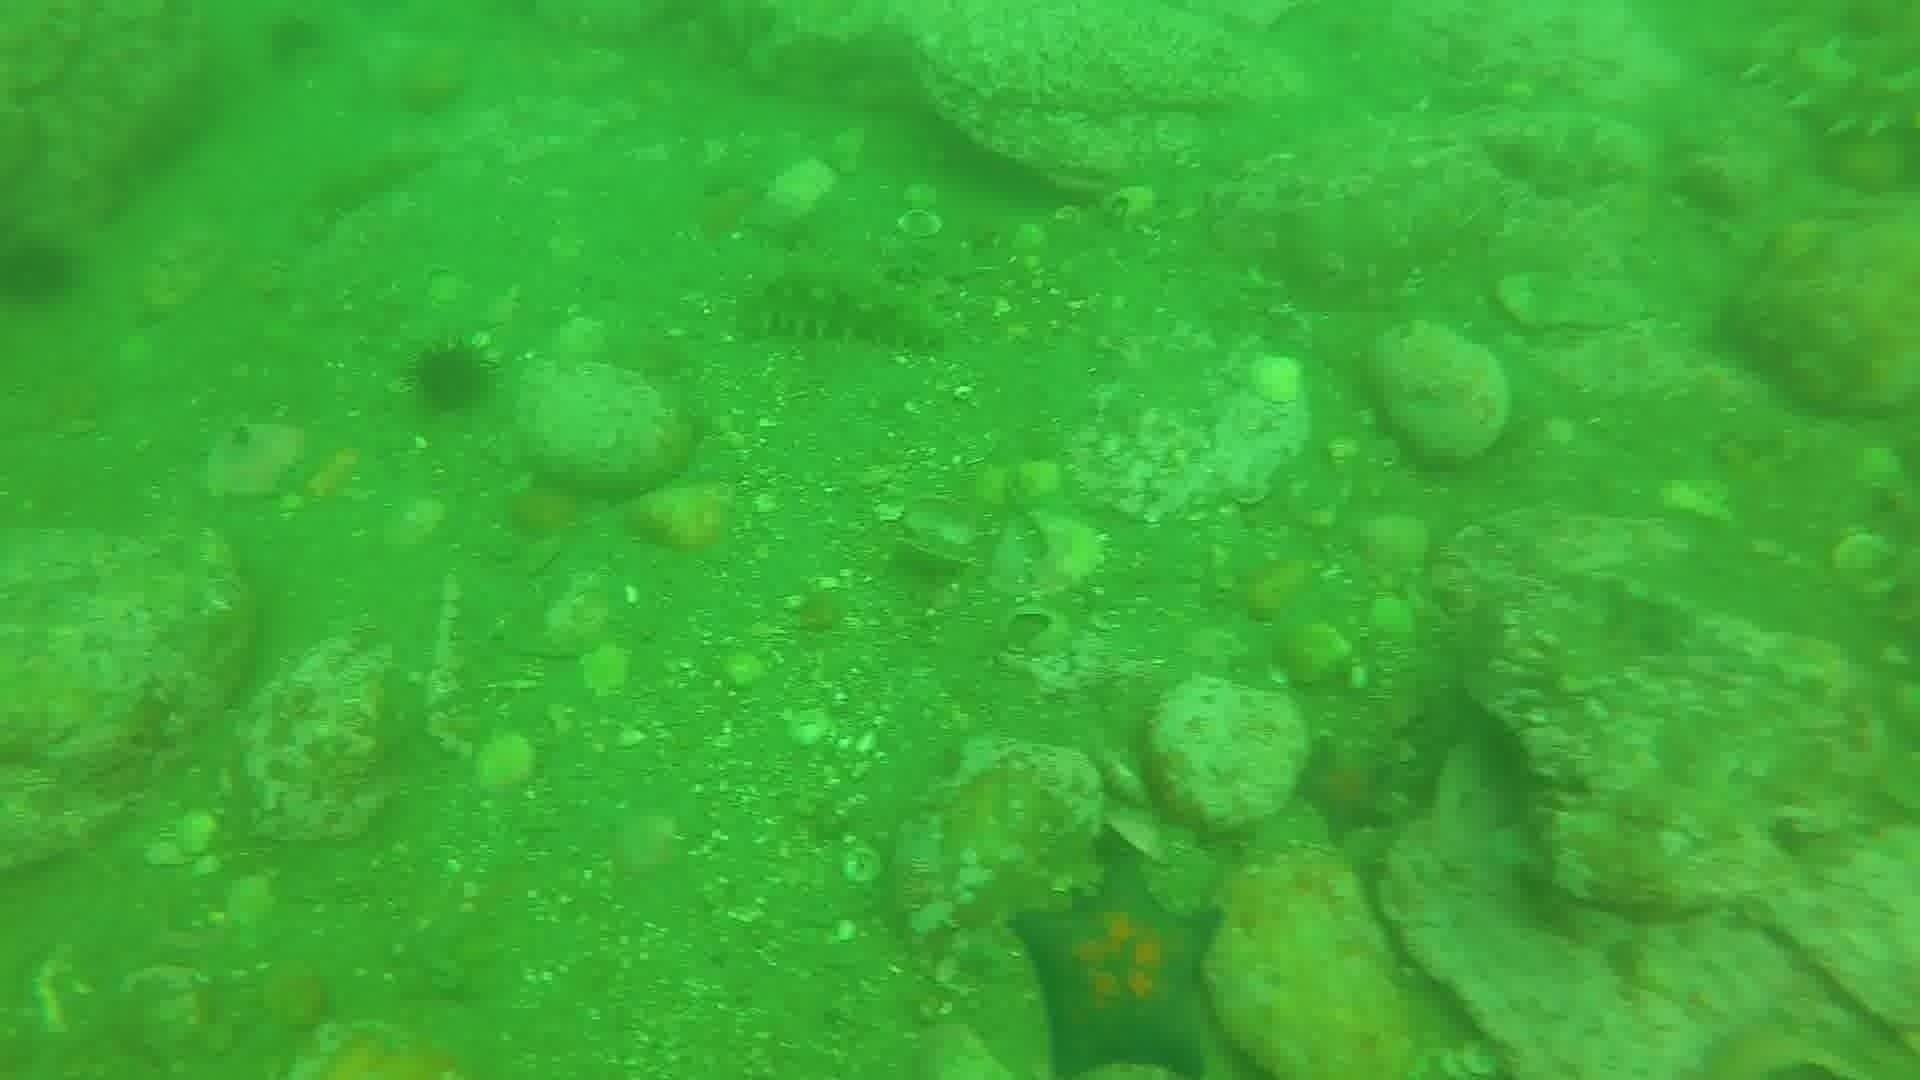echinus: (404, 335, 498, 419), (1, 229, 82, 313)
holothurian: (1735, 21, 1917, 150), (733, 268, 951, 357), (294, 138, 438, 241)
starfish: (1004, 853, 1233, 1077), (1288, 735, 1400, 843)
